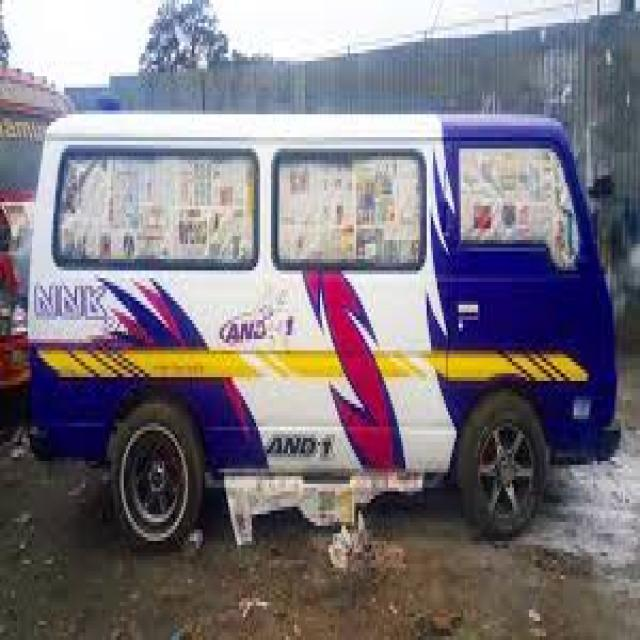matatu: (18, 85, 626, 615)
